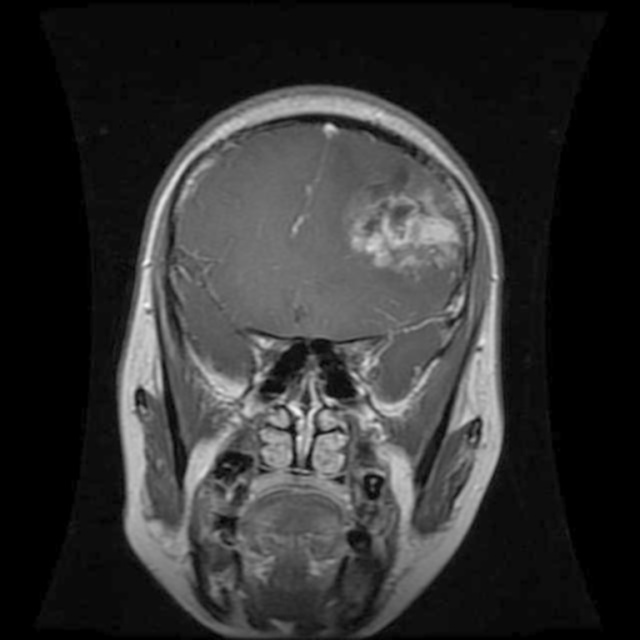pituitary tumor: (350, 158, 466, 268)
